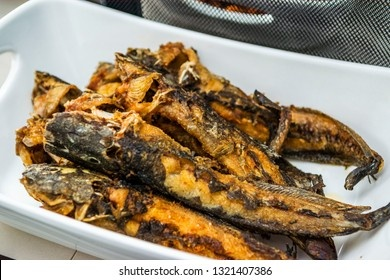pecel_lele: (41, 108, 385, 237)
